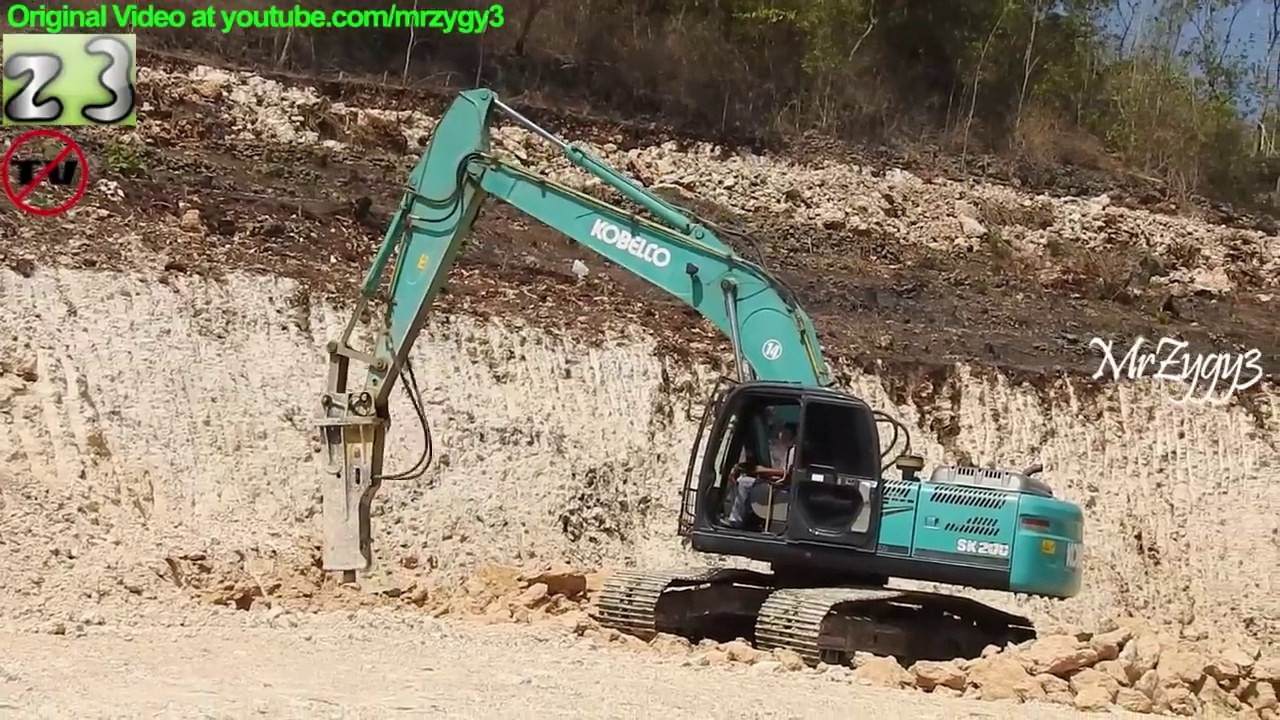excavator breaker: (299, 82, 1092, 686)
